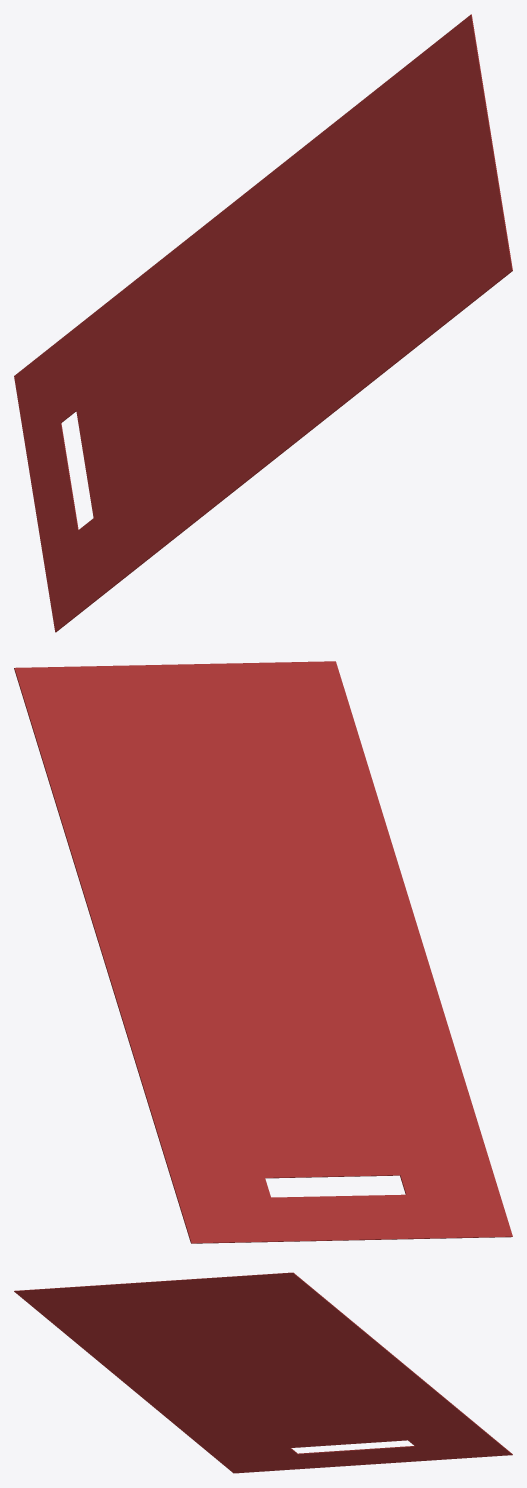
Rendered from lid.glb.
3 renders of one model, top to bottom at view 1: azimuth 30°, elevation 25°; view 2: azimuth 150°, elevation 25°; view 3: azimuth 270°, elevation 25°, orthographic. The views are drawn at different scales.
Parts seen in each view (by area): view 1: lid; view 2: lid; view 3: lid.
Part boxes in pixels (<box>): lid: <box>14,14,512,632</box>; lid: <box>14,661,512,1243</box>; lid: <box>14,1272,512,1473</box>.
Size of the model in its own units: 246 by 248 by 301.
